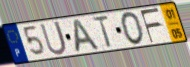5: (21, 25, 47, 58)
A: (73, 17, 102, 55)
F: (139, 7, 163, 45)
O: (120, 11, 145, 47)
T: (91, 14, 114, 50)
U: (38, 20, 68, 57)
